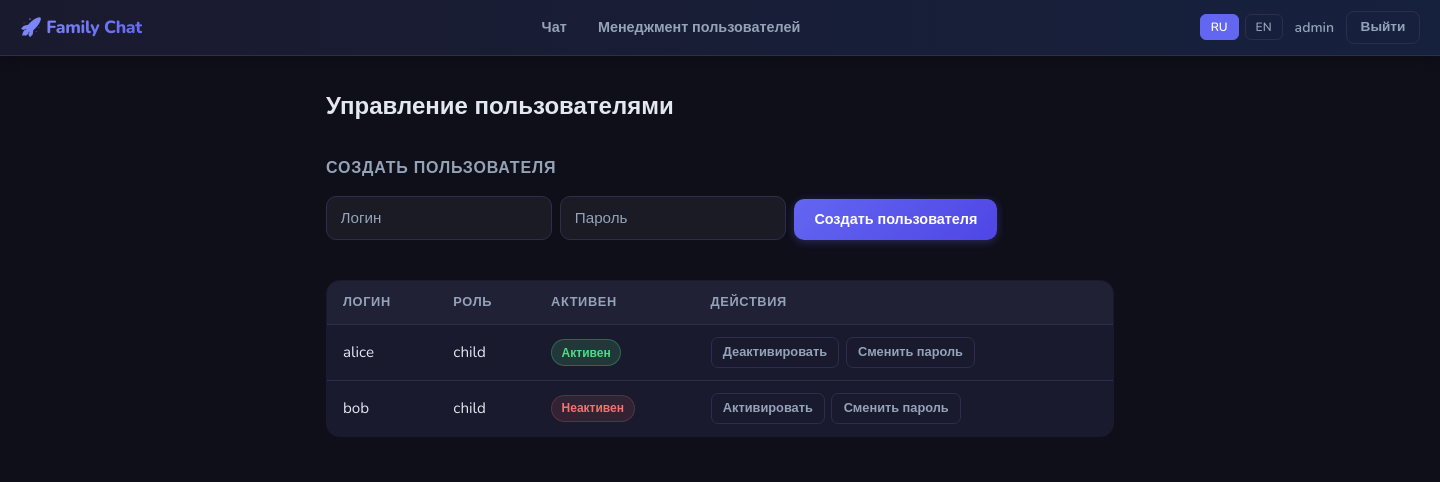
Test case: Create user › shows username_taken error when createUser fails
Expected: the text "alice" is shown, [326,325,437,380]
Type "alice" into the field with placeholder "Логин" at (439, 218), box [326,196,552,240]
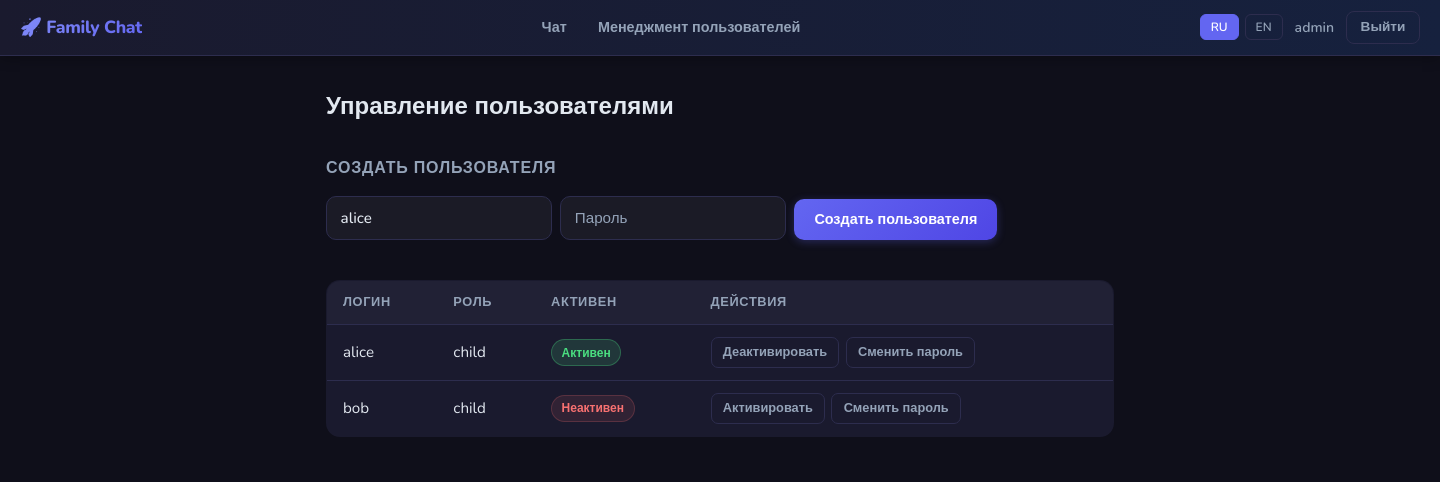
Type "pass123" into the password field with placeholder "Пароль" at (673, 218), box [560,196,786,240]
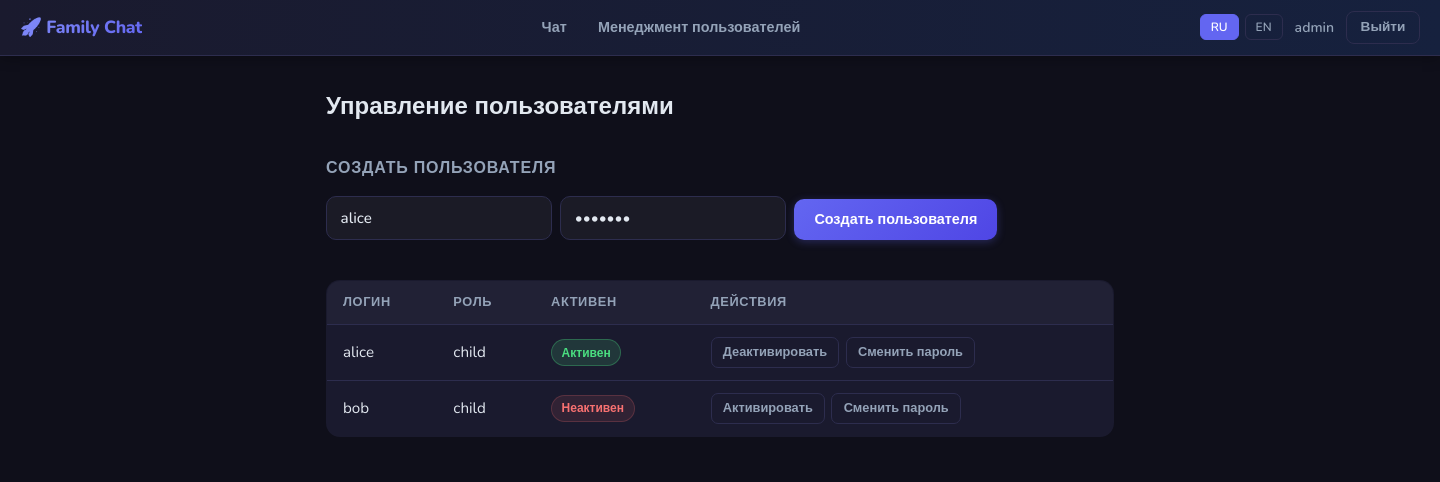
Click the button "Создать пользователя" at (896, 220), box [794,199,997,240]
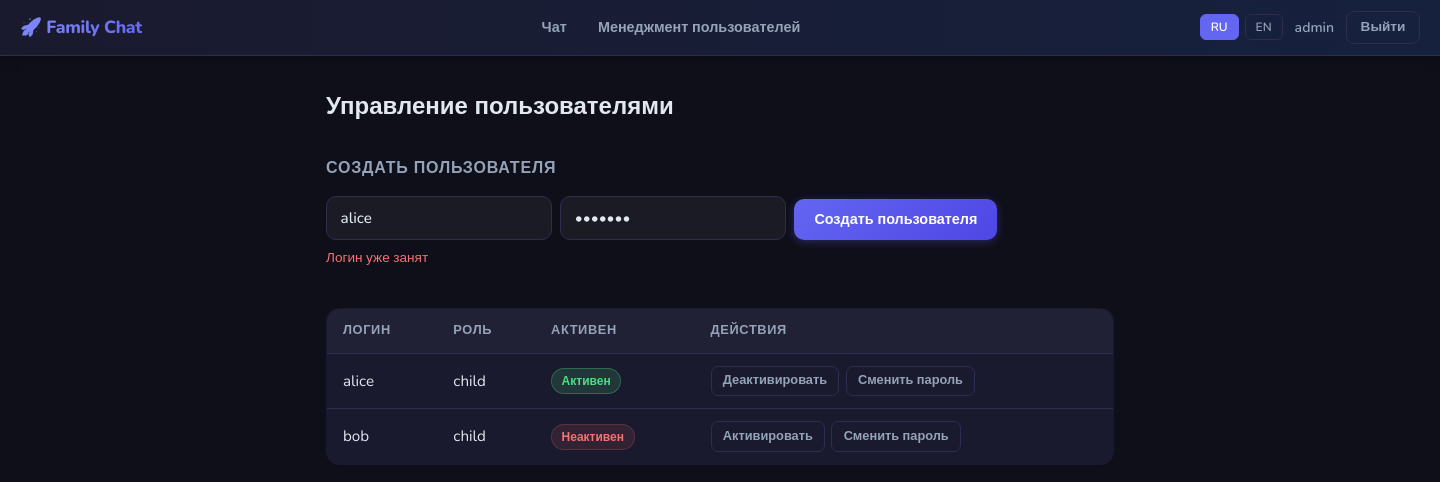
Expected: the text "Логин уже занят" is shown, [326,248,428,267]
